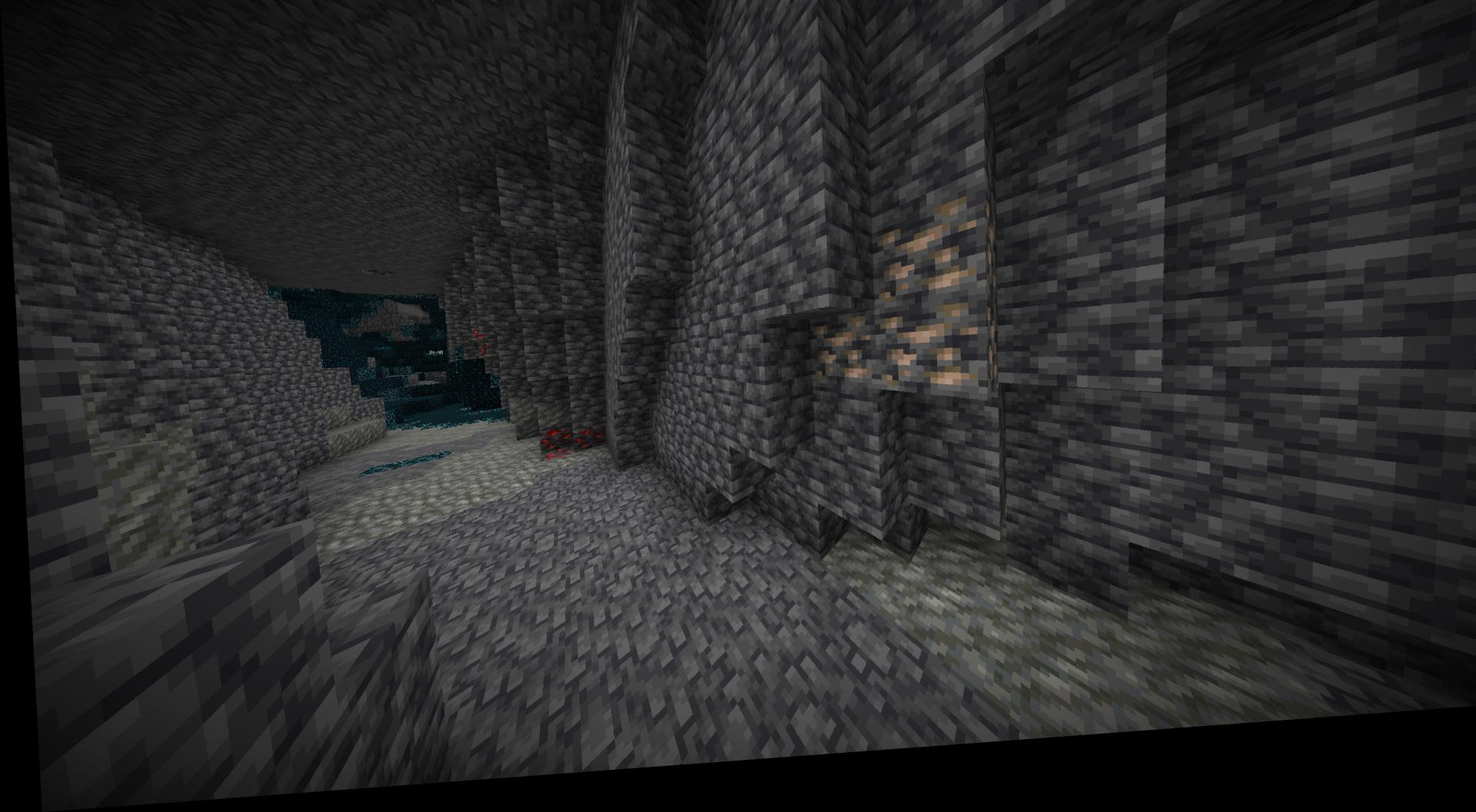iron ore: (867, 223, 992, 315), (870, 312, 983, 401), (799, 325, 865, 396)
redstone ore: (536, 431, 612, 468), (463, 328, 488, 370)
